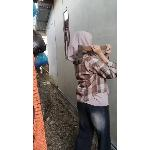Kapak: (75, 44, 113, 60)
